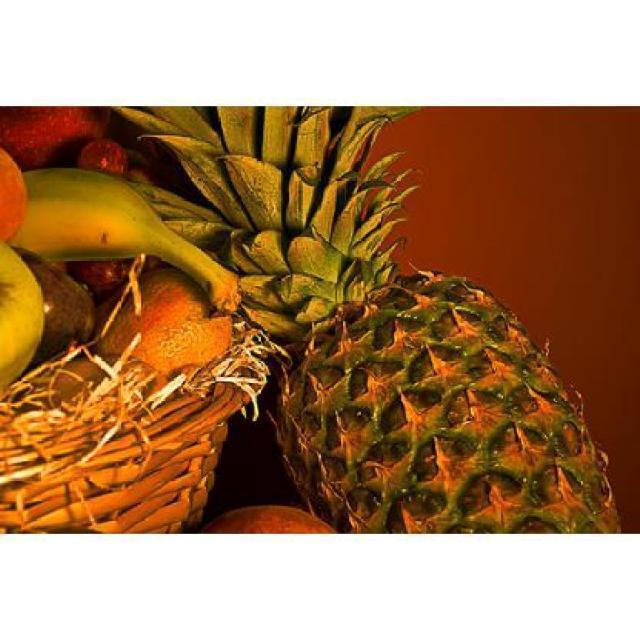Pineapple: (106, 104, 623, 530)
